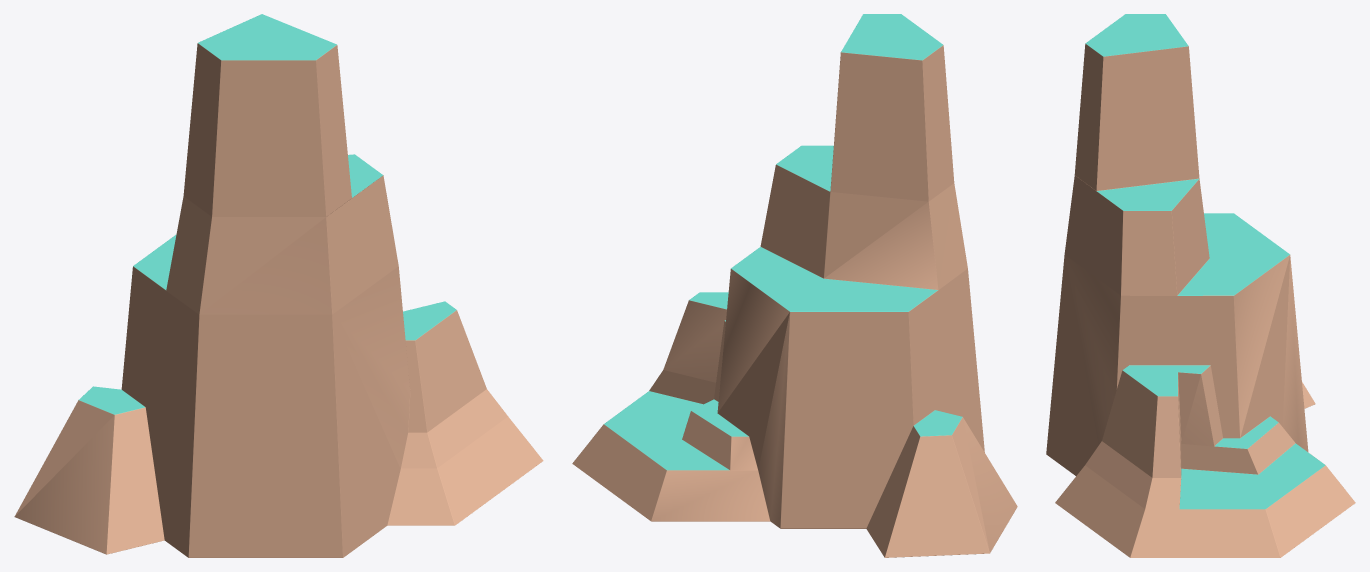
Rendered from rock_tallA.glb.
The picture shows the model from 3 angles, left to right: view 1: azimuth 30°, elevation 25°; view 2: azimuth 150°, elevation 25°; view 3: azimuth 270°, elevation 25°; orthographic projection. The views are drawn at different scales.
Visible parts, largest first — view 1: rock_tallA; view 2: rock_tallA; view 3: rock_tallA.
Boxes of the visible parts, left/top/right/bottom form: rock_tallA: left=14, top=14, right=543, bottom=557; rock_tallA: left=572, top=14, right=1017, bottom=557; rock_tallA: left=1046, top=14, right=1355, bottom=557.
Bounding box in the file's own units: 0.9826 × 0.9959 × 0.6827.
